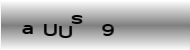9: (101, 23, 114, 36)
U: (42, 23, 57, 37), (58, 25, 73, 38)
a: (21, 24, 34, 35)
s: (71, 15, 83, 24)
